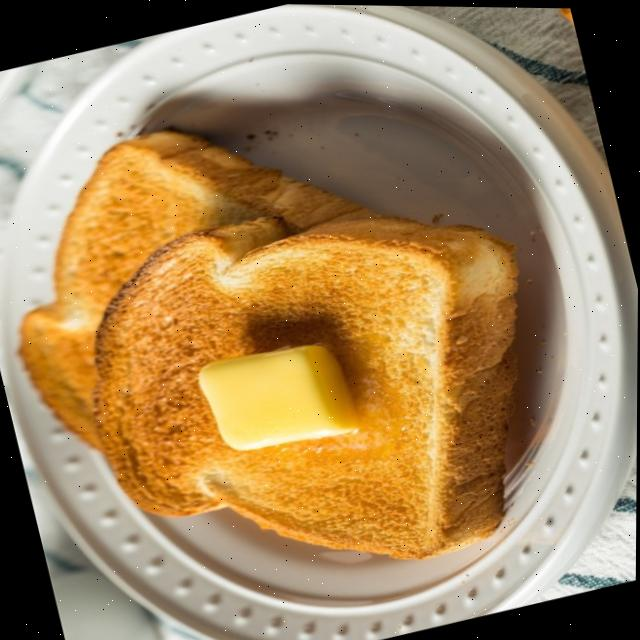Bread: (93, 214, 517, 557), (19, 129, 366, 446)
